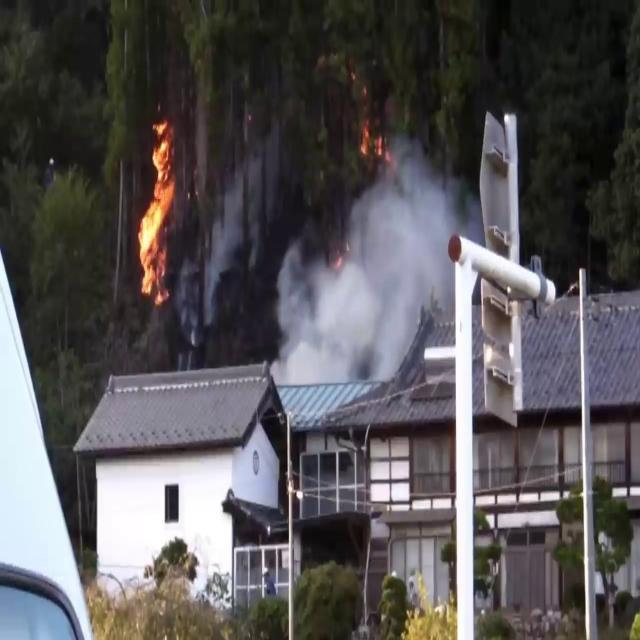Fire: (133, 110, 181, 306)
Smoke: (265, 140, 465, 398), (198, 164, 252, 314)
